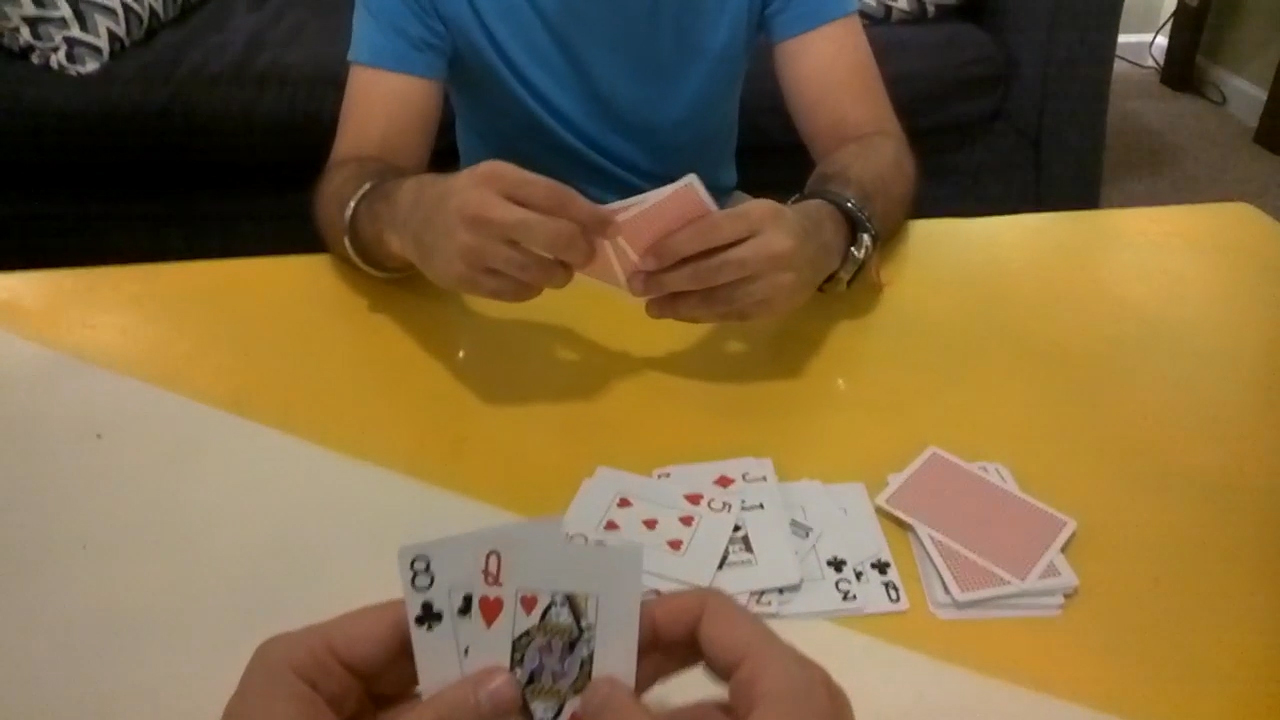hand: (574, 582, 858, 717), (225, 588, 521, 717), (392, 162, 610, 302), (623, 200, 818, 321)
